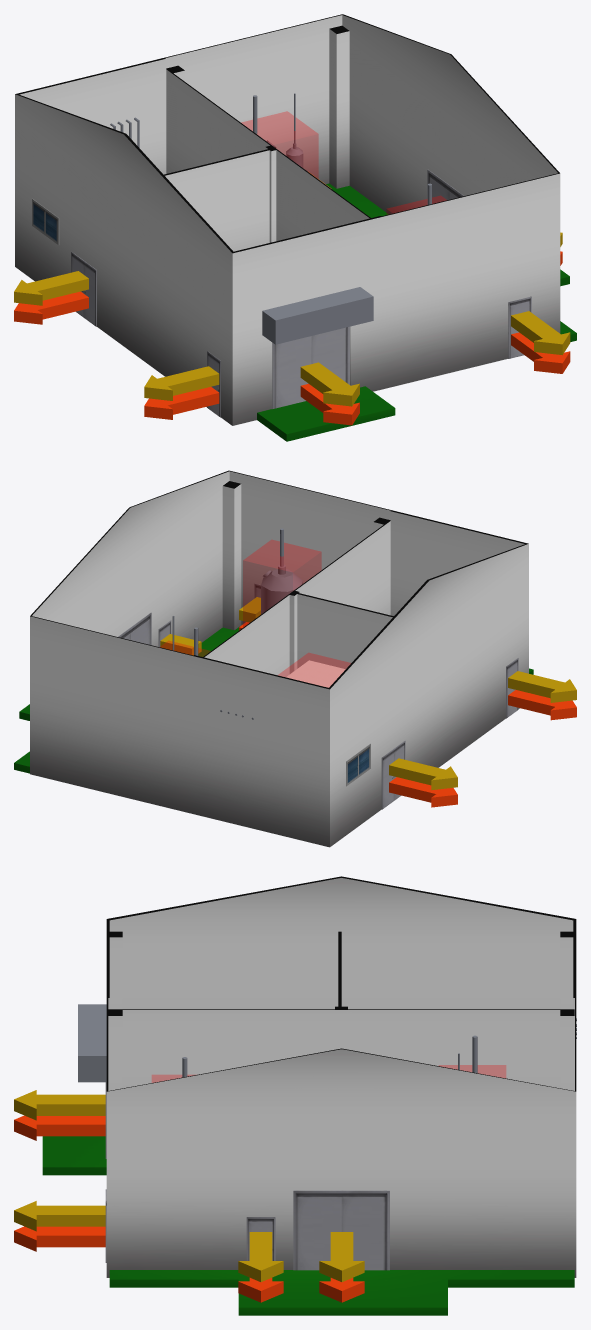
Rendered from soulbrain_T2-10-1F.glb.
The picture shows the model from 3 angles, top to bottom: view 1: azimuth 30°, elevation 25°; view 2: azimuth 150°, elevation 25°; view 3: azimuth 270°, elevation 25°; orthographic projection. The views are drawn at different scales.
Visible parts, largest first — view 1: Line018, Plane009, Line019, Line001, equipment-T2-10-1F-003, arrow_Y_3_T2-10-1F, arrow_Y_4_T2-10-1F, arrow_Y_2_T2-10-1F, arrow_Y_1_T2-10-1F, arrow_R_3_T2-10-1F, arrow_R_4_T2-10-1F, arrow_R_2_T2-10-1F (+1 smaller); view 2: Line018, equipment-T2-10-1F-001, Plane009, equipment-T2-10-1F-005, arrow_Y_3_T2-10-1F, arrow_Y_4_T2-10-1F, Box2279, arrow_R_3_T2-10-1F, arrow_R_4_T2-10-1F, Box2313, Line001, arrow_Y_6_T2-10-1F; view 3: Line018, Line001, Plane009, Line019, arrow_Y_2_T2-10-1F, arrow_Y_1_T2-10-1F, arrow_R_1_T2-10-1F, arrow_R_2_T2-10-1F, arrow_Y_5_T2-10-1F, arrow_Y_6_T2-10-1F, arrow_R_6_T2-10-1F, arrow_R_5_T2-10-1F.
Boxes of the visible parts, <box> form: Line018: <box>15,14,560,425</box>; Plane009: <box>32,169,531,417</box>; Line019: <box>262,287,373,344</box>; Line001: <box>257,183,576,441</box>; equipment-T2-10-1F-003: <box>241,111,318,178</box>; arrow_Y_3_T2-10-1F: <box>144,366,219,400</box>; arrow_Y_4_T2-10-1F: <box>14,271,88,305</box>; arrow_Y_2_T2-10-1F: <box>300,362,359,406</box>; arrow_Y_1_T2-10-1F: <box>511,311,570,355</box>; arrow_R_3_T2-10-1F: <box>144,387,219,419</box>; arrow_R_4_T2-10-1F: <box>14,291,88,324</box>; arrow_R_2_T2-10-1F: <box>300,383,359,425</box>; Line018: <box>30,470,528,847</box>; equipment-T2-10-1F-001: <box>243,540,321,627</box>; Plane009: <box>118,583,518,809</box>; equipment-T2-10-1F-005: <box>278,653,350,687</box>; arrow_Y_3_T2-10-1F: <box>508,671,576,702</box>; arrow_Y_4_T2-10-1F: <box>389,758,457,790</box>; Box2279: <box>261,528,302,614</box>; arrow_R_3_T2-10-1F: <box>508,690,576,720</box>; arrow_R_4_T2-10-1F: <box>389,777,457,807</box>; Box2313: <box>286,660,345,687</box>; Line001: <box>14,626,533,773</box>; arrow_Y_6_T2-10-1F: <box>160,634,201,655</box>; Line018: <box>106,876,576,1277</box>; Line001: <box>42,1136,574,1315</box>; Plane009: <box>105,1082,389,1270</box>; Line019: <box>78,1004,106,1082</box>; arrow_Y_2_T2-10-1F: <box>14,1090,105,1120</box>; arrow_Y_1_T2-10-1F: <box>14,1201,105,1231</box>; arrow_R_1_T2-10-1F: <box>14,1226,105,1251</box>; arrow_R_2_T2-10-1F: <box>14,1115,105,1140</box>; arrow_Y_5_T2-10-1F: <box>319,1232,364,1281</box>; arrow_Y_6_T2-10-1F: <box>238,1232,283,1281</box>; arrow_R_6_T2-10-1F: <box>238,1278,283,1302</box>; arrow_R_5_T2-10-1F: <box>319,1278,364,1302</box>.
Size of the model in its own units: 18.29 by 7.85 by 17.49.
Materials: 20 (14 with a texture image).
